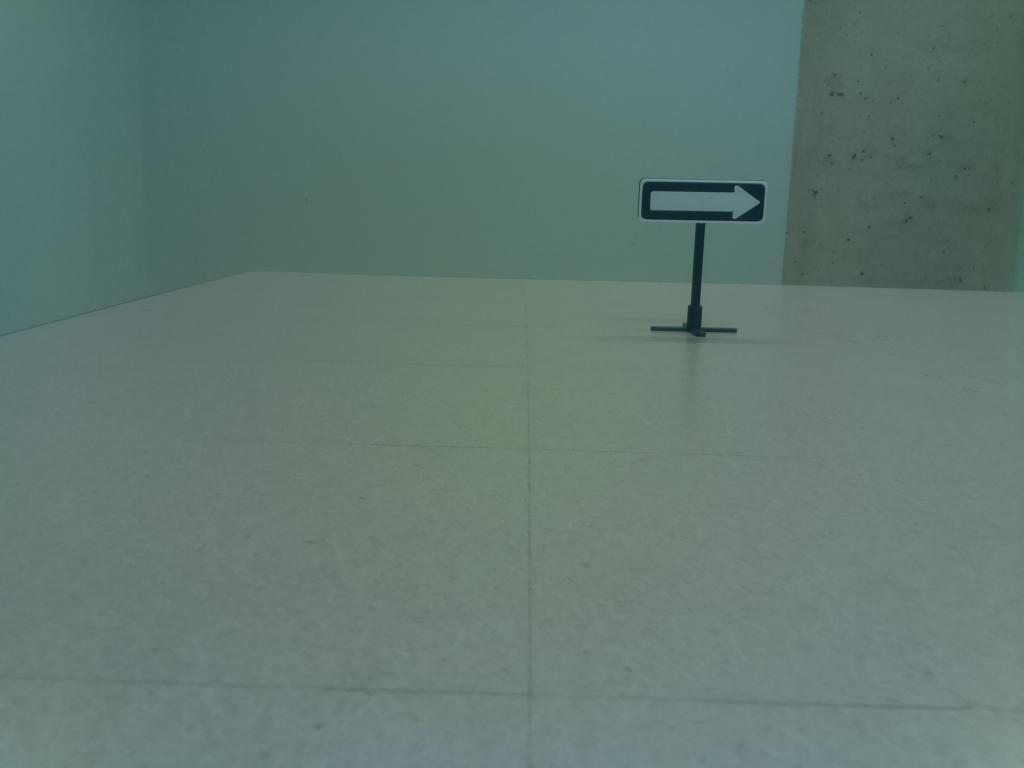sign_oneway_right: (634, 173, 773, 229)
